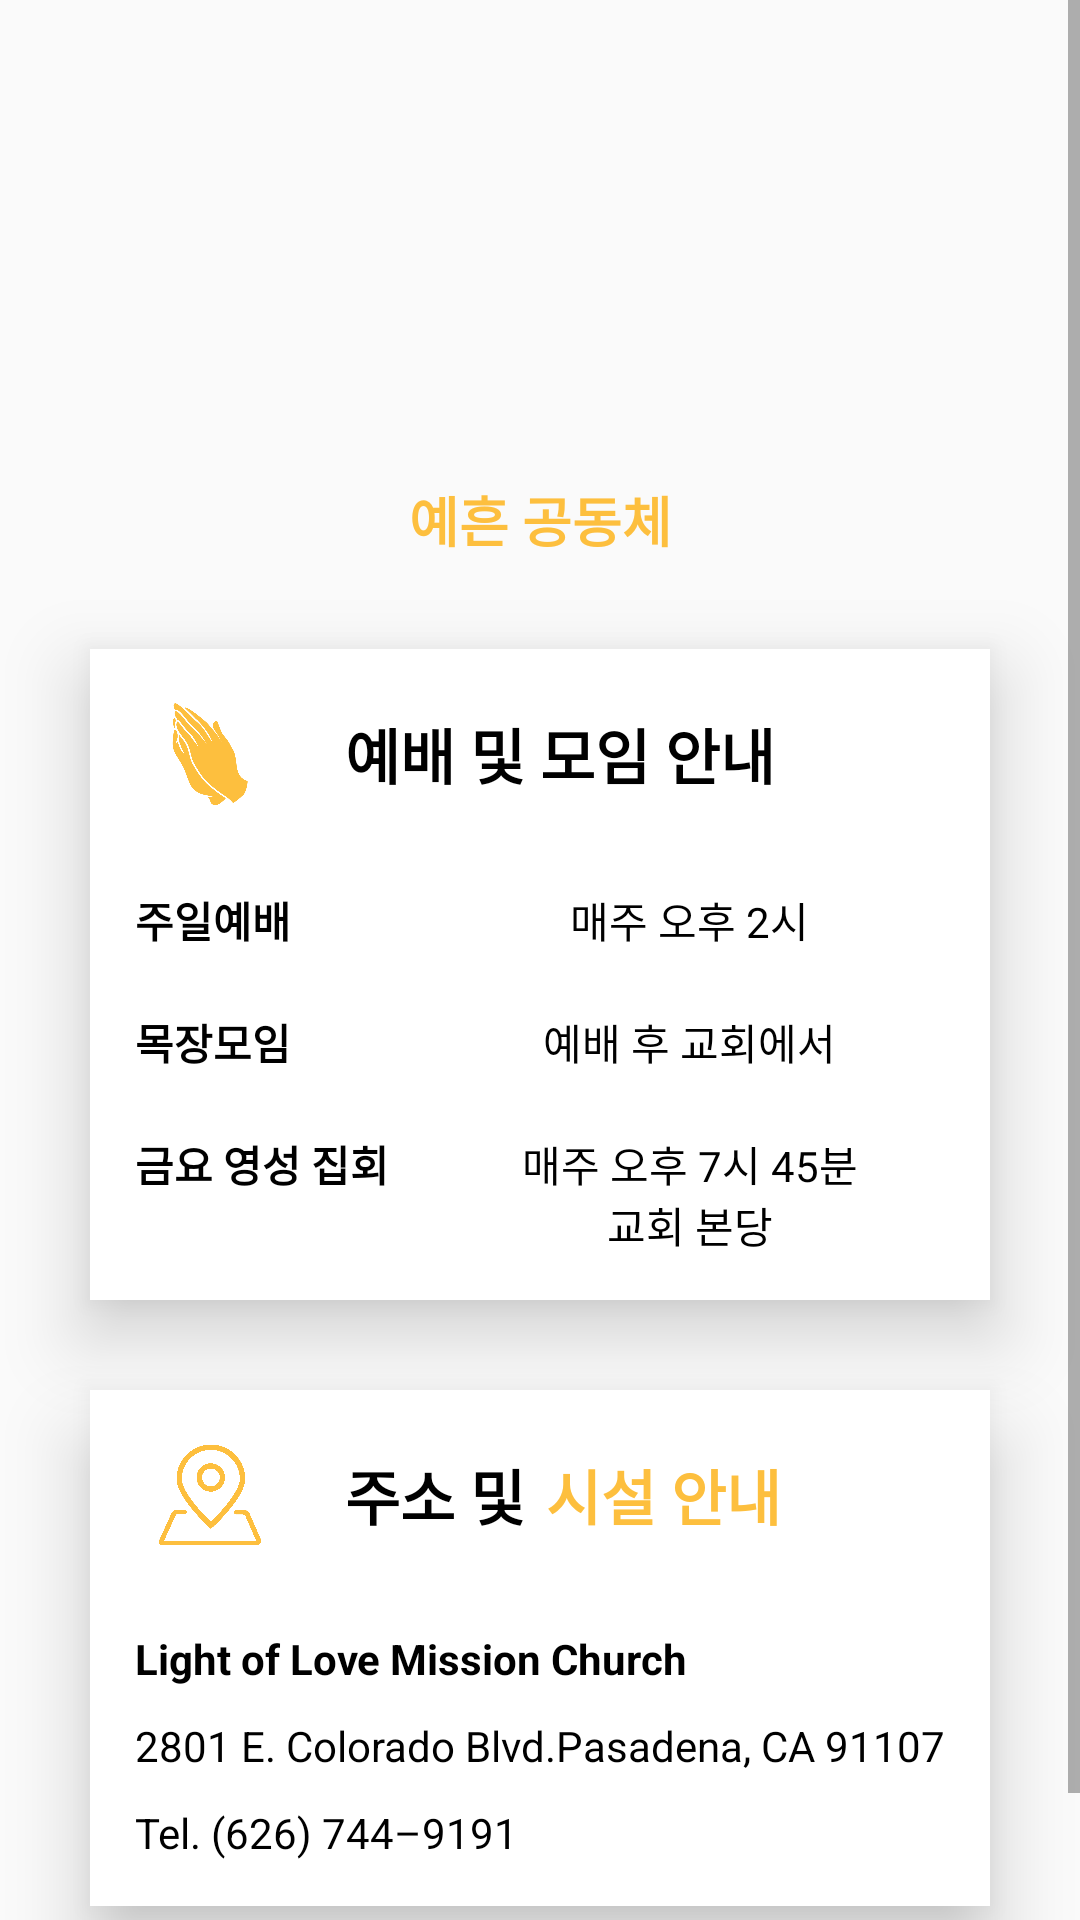

Where icons sit on this 1080*1920 app screen, as (x1, y1, x2, y2):
hand: (172, 703, 248, 805)
location: (159, 1445, 261, 1545)
